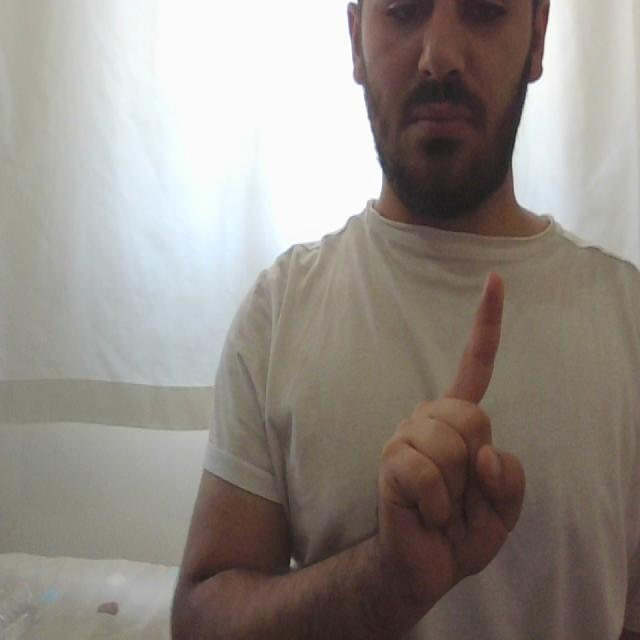Hayir: (358, 267, 528, 620)
